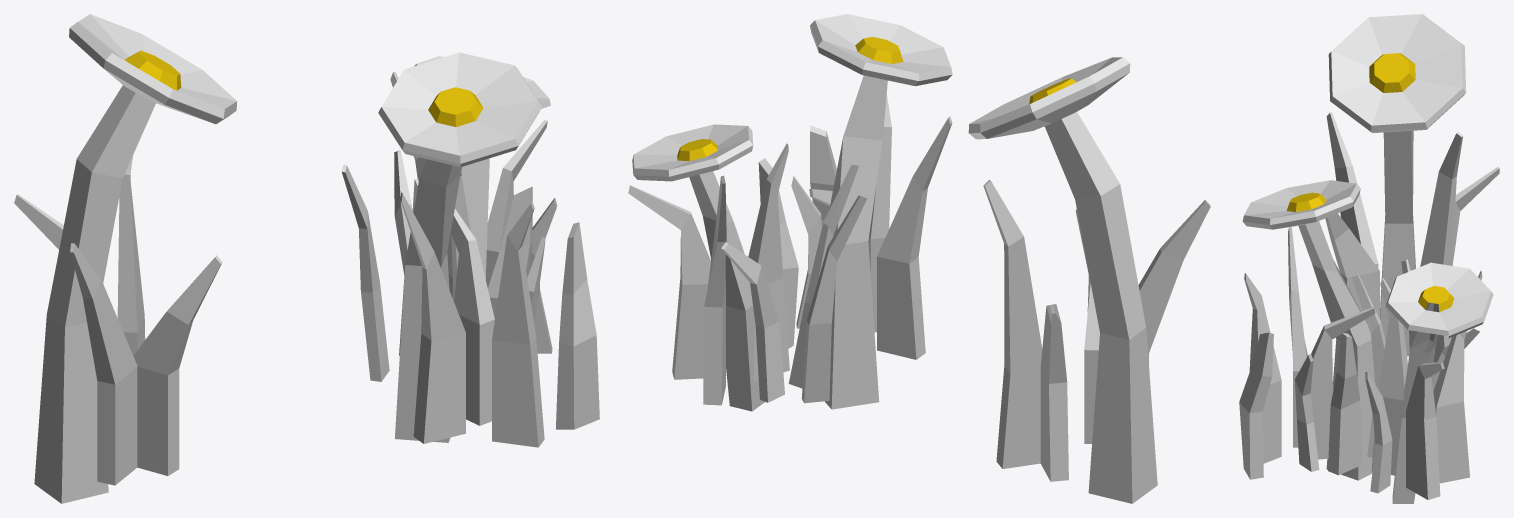
The model's file is Flowers.fbx.
3 renders of one model, left to right at view 1: azimuth 30°, elevation 25°; view 2: azimuth 150°, elevation 25°; view 3: azimuth 270°, elevation 25°, orthographic. The views are drawn at different scales.
Parts seen in each view (by area): view 1: Cube.012, Cube.013, Cube.014, Cube.015; view 2: Cube.012, Cube.014, Cube.013, Cube.015; view 3: Cube.012, Cube.014, Cube.013, Cube.015.
Part boxes in pixels (x1,y1,x2,y2): Cube.012: [14, 14, 550, 503]; Cube.013: [400, 192, 599, 447]; Cube.014: [390, 71, 557, 353]; Cube.015: [341, 150, 418, 381]; Cube.012: [632, 14, 1210, 503]; Cube.014: [628, 143, 798, 405]; Cube.013: [791, 94, 952, 359]; Cube.015: [721, 165, 867, 403]; Cube.012: [1242, 14, 1499, 503]; Cube.014: [1328, 271, 1482, 499]; Cube.013: [1239, 227, 1375, 479]; Cube.015: [1352, 259, 1480, 457].
Bounding box in the file's own units: 472 × 371 × 254.
